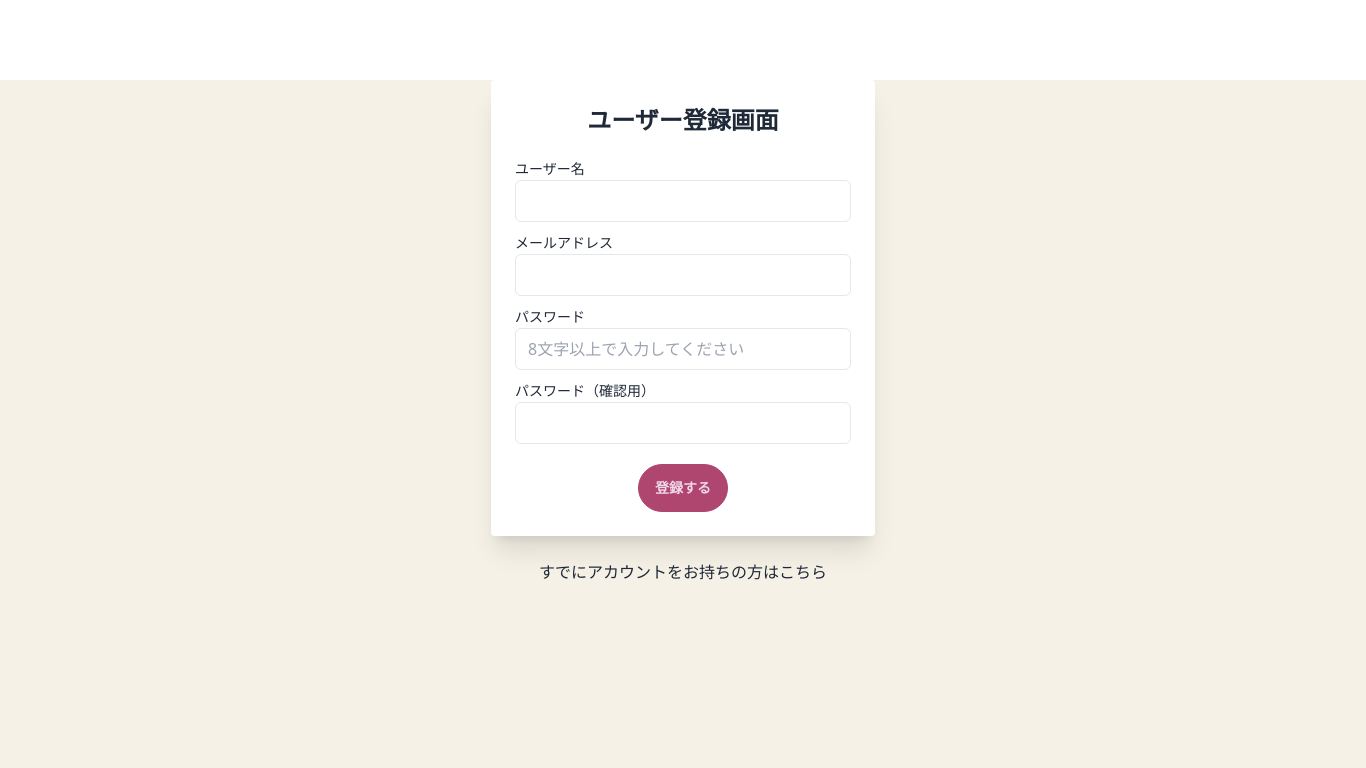
Scenario: Registerコンポーネントのテスト › エラー時のテスト › バリデーションエラー時のテスト › ユーザー名のバリデーションエラー › ユーザー名が空の場合
The image size is (1366, 768).
What coordinates should you click on to do the following:
click the button "登録する"
I would click on:
 (683, 488)
Its box is [638,464,728,512].
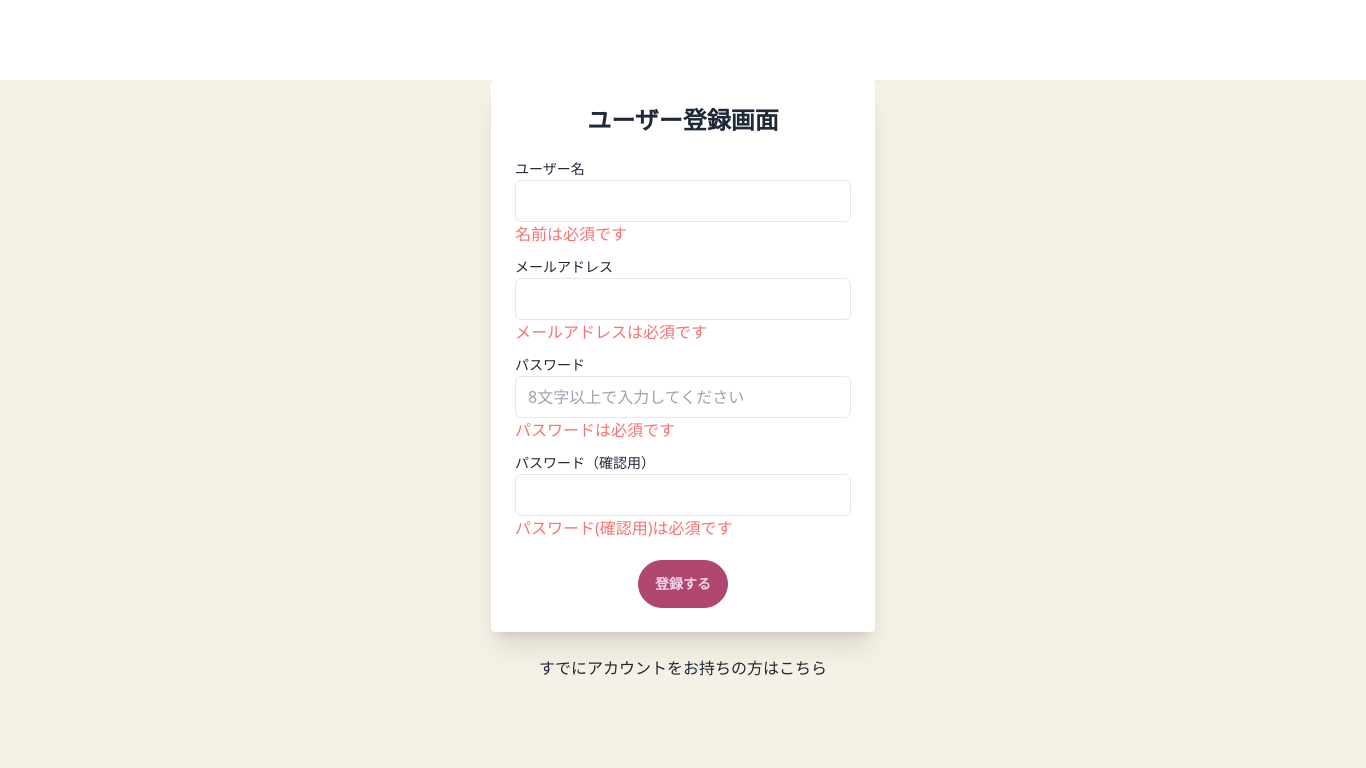
Expected: the text "名前は必須です" is shown, [515,223,627,245]
